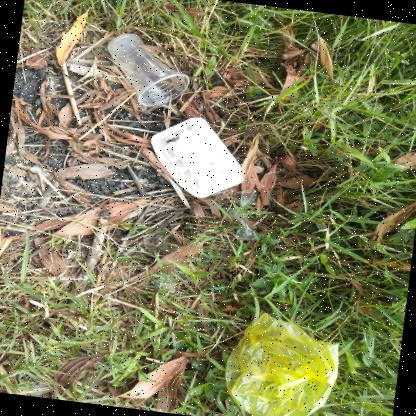Disposable plastic cup: (107, 33, 189, 106)
Meal carton: (150, 117, 243, 198)
Plastic film: (229, 206, 254, 240), (233, 189, 261, 207)
Single-use carrier bag: (224, 312, 338, 416)
